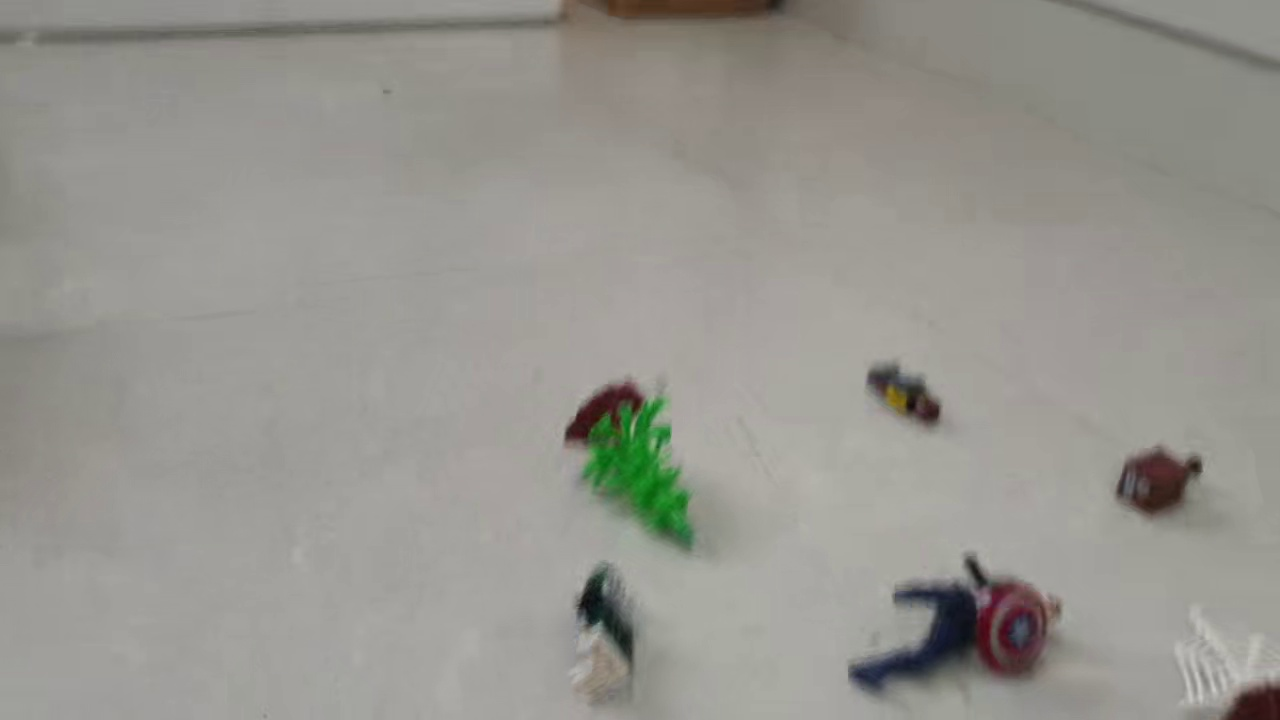box: (1113, 447, 1207, 519)
people: (846, 549, 1065, 696), (569, 561, 638, 699), (864, 360, 948, 429)
tree: (561, 376, 702, 555)
web: (1169, 599, 1280, 720)
